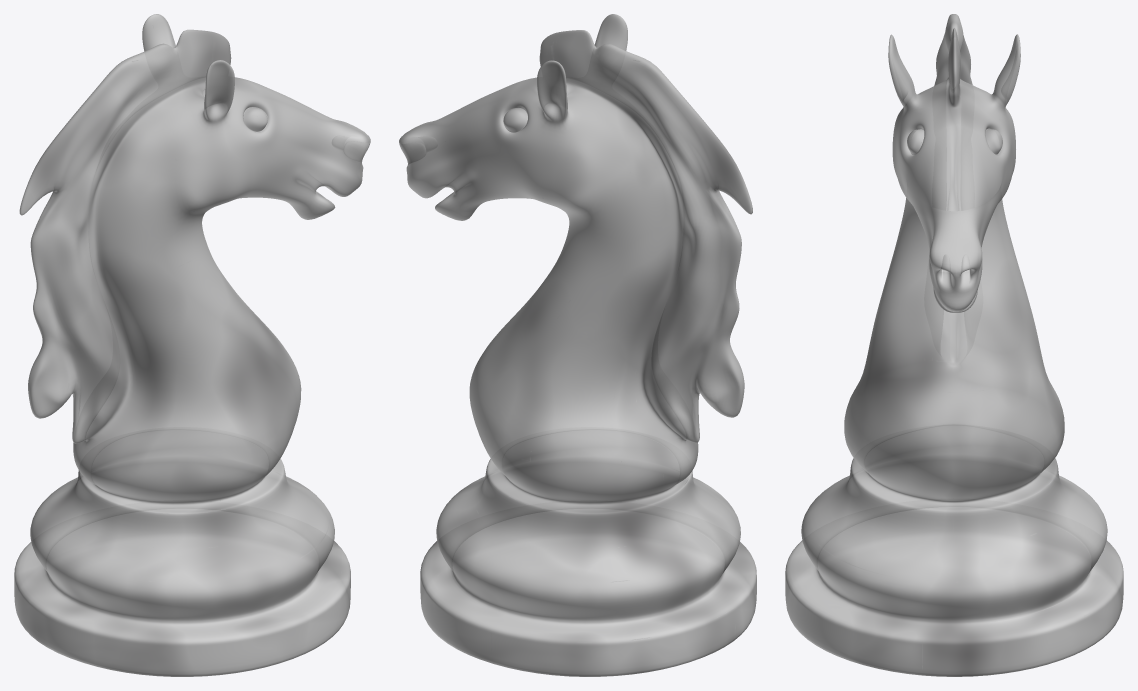
The model's file is Caballo_Regular.glb.
3 renders of one model, left to right at view 1: azimuth 30°, elevation 25°; view 2: azimuth 150°, elevation 25°; view 3: azimuth 270°, elevation 25°, orthographic.
Visible parts, largest first — view 1: KNIGHT; view 2: KNIGHT; view 3: KNIGHT.
Part boxes in pixels (x1,y1,x2,y2): KNIGHT: [14, 14, 370, 676]; KNIGHT: [399, 14, 756, 676]; KNIGHT: [785, 14, 1123, 676].
Size of the model in its own units: 0.0489 by 0.0772 by 0.0407.
Materials: 1 (1 with a texture image).
